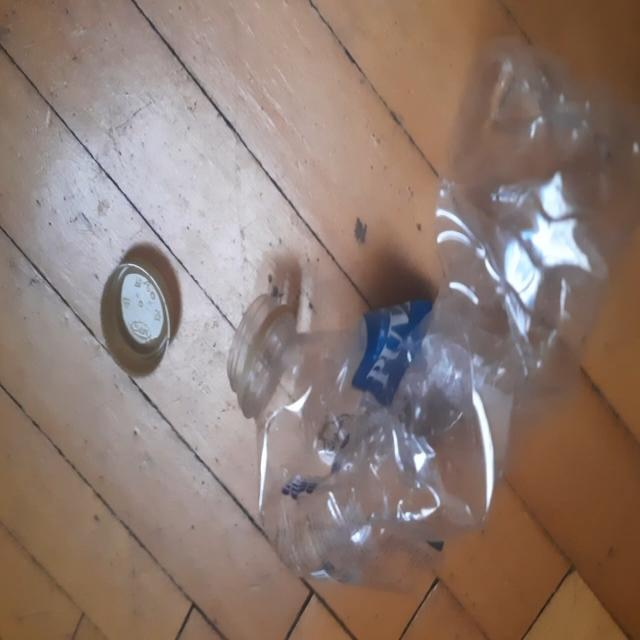Plastic: (228, 36, 636, 585)
